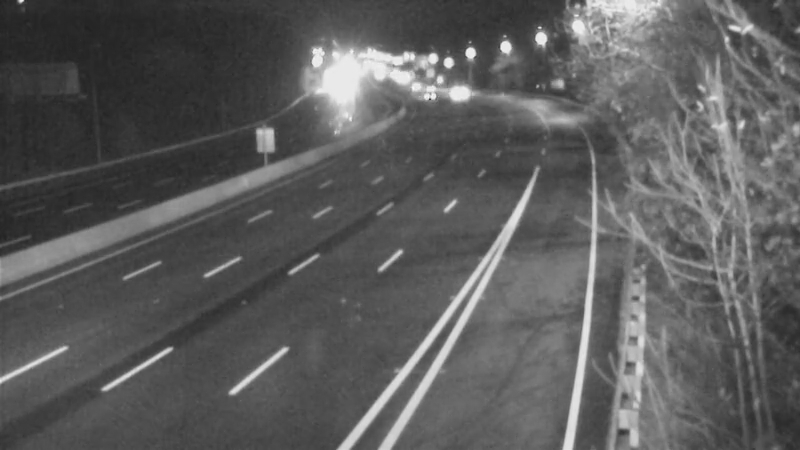vehicle: (432, 70, 482, 120), (407, 75, 457, 125)
